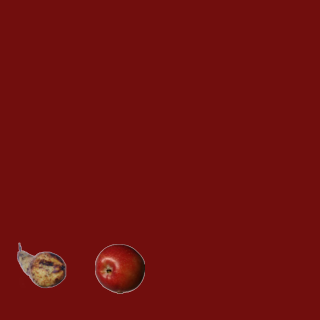Apple Braeburn: (94, 243, 144, 293)
Pear Abate: (16, 240, 66, 290)
